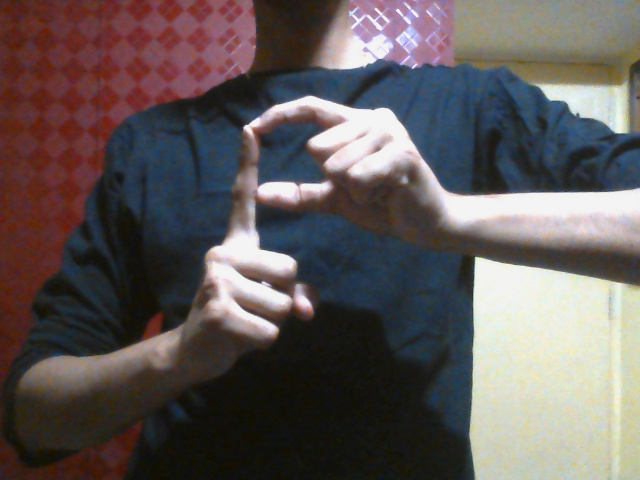P: (186, 95, 444, 376)
